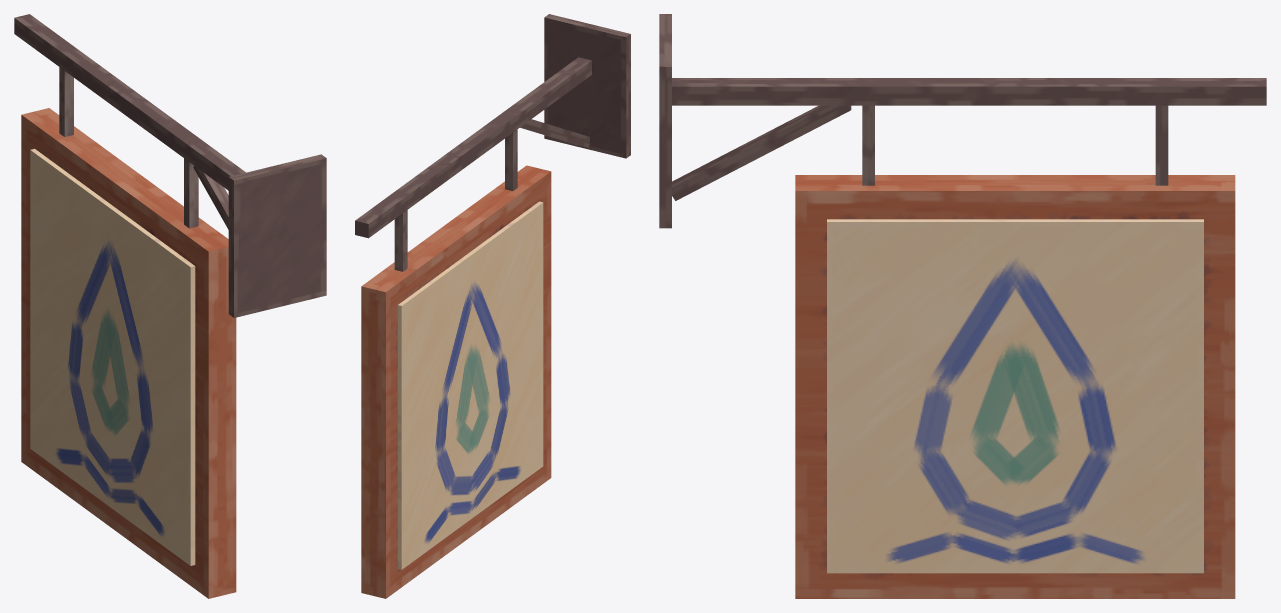
The model's file is sign_drop_low.fbx.
3 renders of one model, left to right at view 1: azimuth 30°, elevation 25°; view 2: azimuth 150°, elevation 25°; view 3: azimuth 270°, elevation 25°, orthographic. The views are drawn at different scales.
Visible parts, largest first — view 1: sign_drop; view 2: sign_drop; view 3: sign_drop.
Boxes of the visible parts, x1,y1,x2,y2 form: sign_drop: (14, 14, 326, 598); sign_drop: (355, 14, 630, 598); sign_drop: (659, 14, 1266, 598).
Bounding box in the file's own units: 0.6 × 2.9 × 2.9.
1 material, 1 textured.
